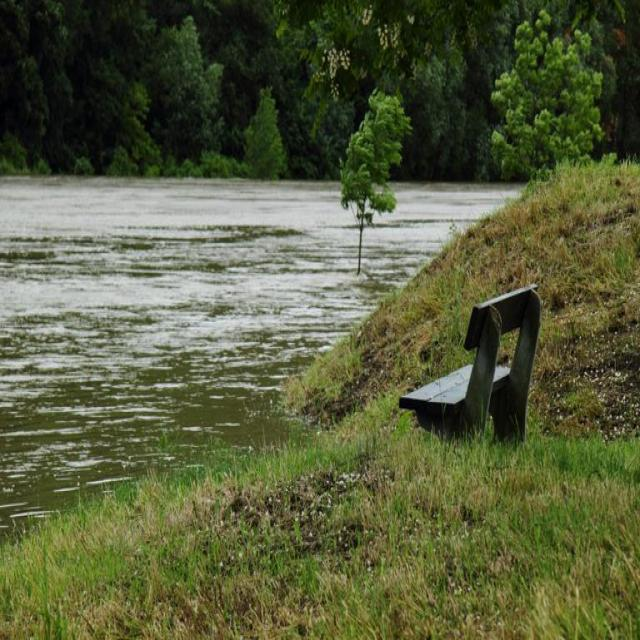flood: (0, 154, 540, 521)
